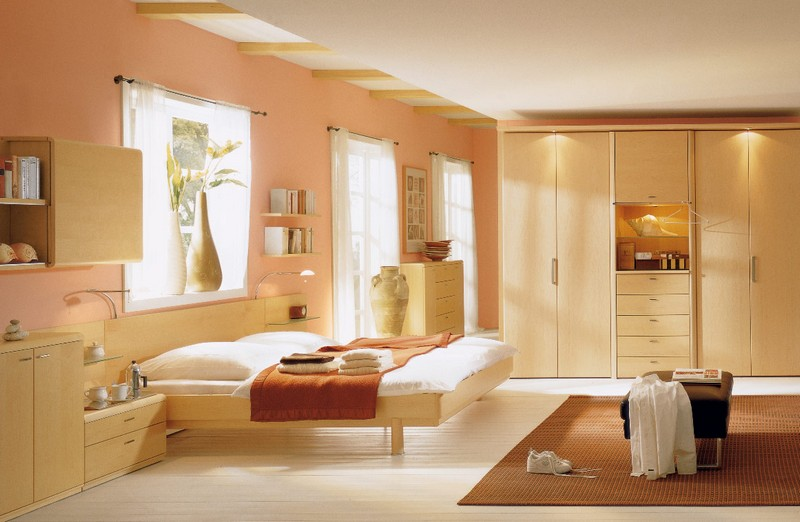bed: (129, 324, 518, 458)
lamp: (257, 268, 321, 290)
stool: (616, 369, 733, 470), (408, 264, 476, 341)
